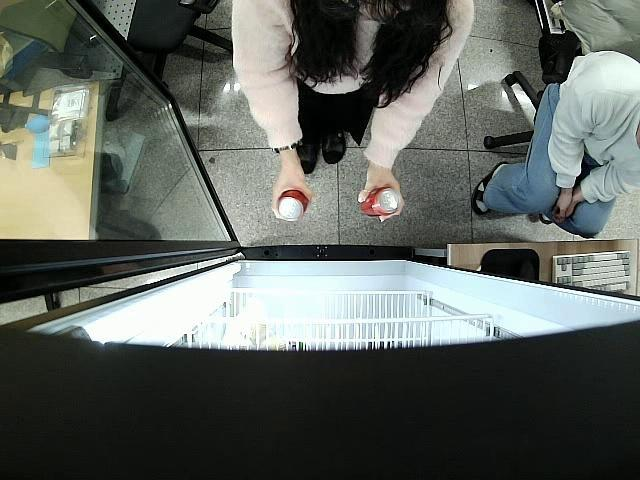11_cocaColaZero: (360, 187, 401, 217), (276, 188, 310, 222)
